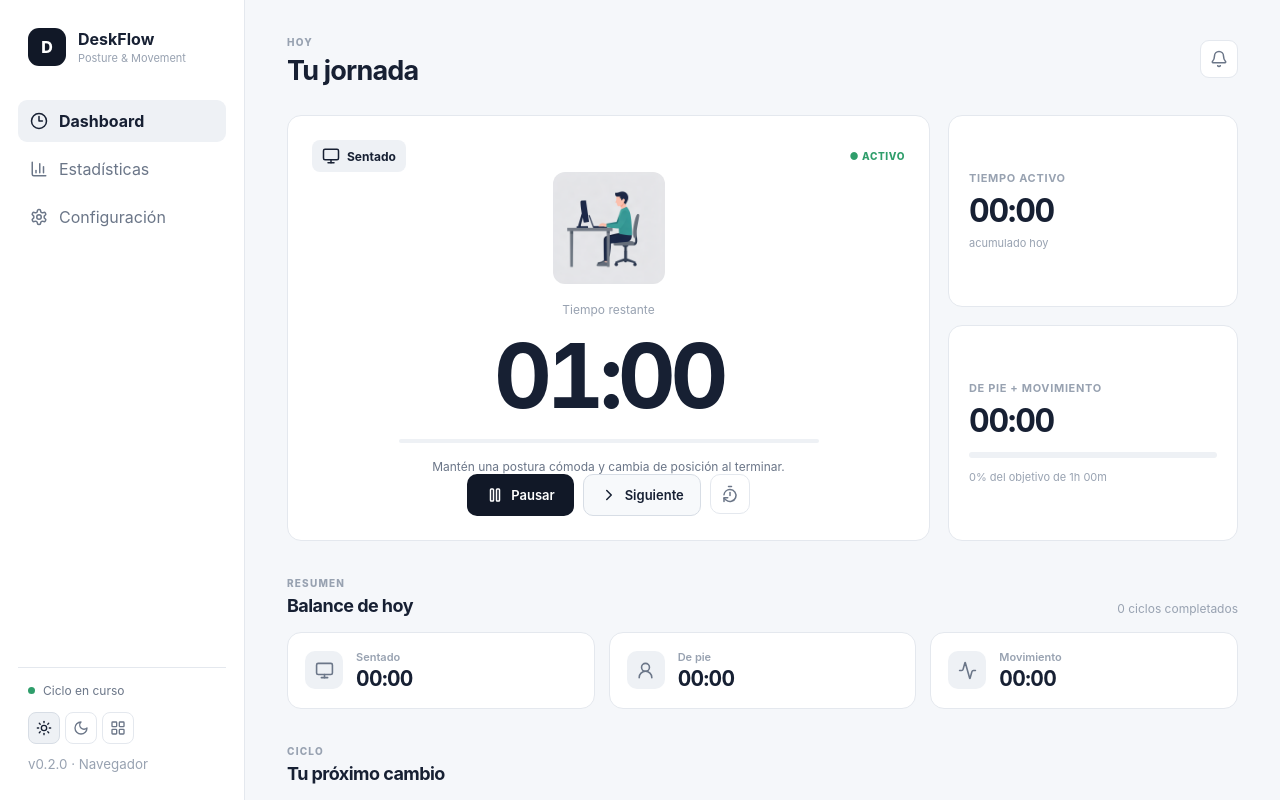
Test case: data reset › clears history and settings and stays usable
Press 3
(page scrolled)
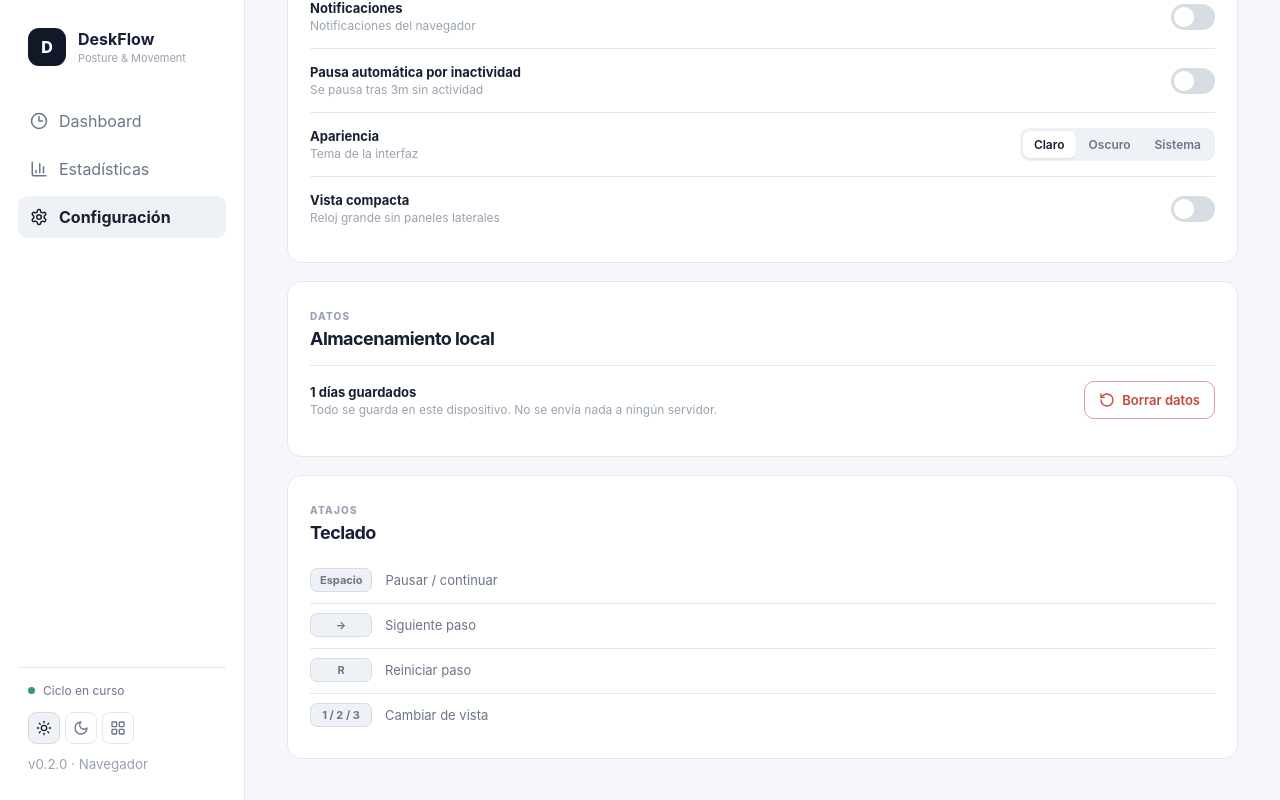
Click the button "Borrar datos" at {"x": 1150, "y": 400}, box [1084, 381, 1215, 419]
(page scrolled)
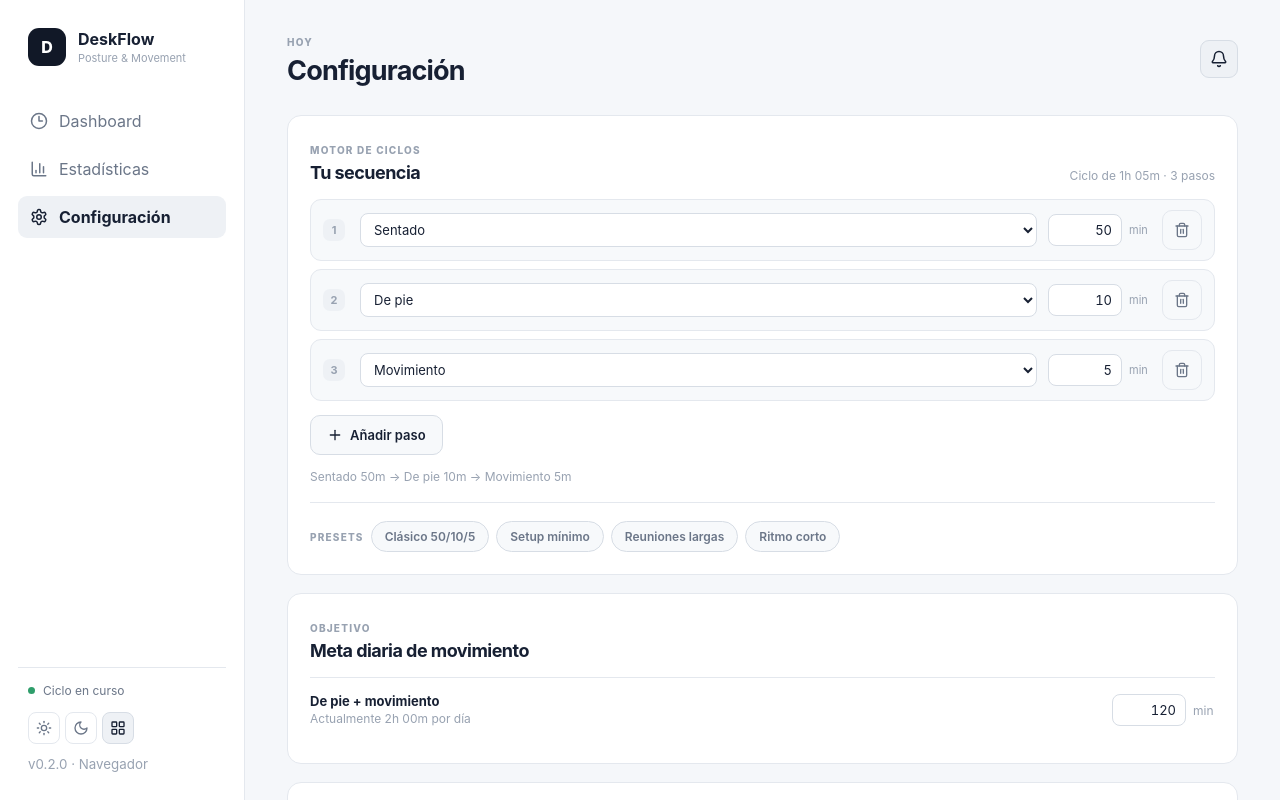
Result: the heading "Configuración" is shown at [287, 54, 465, 87]
Press 1
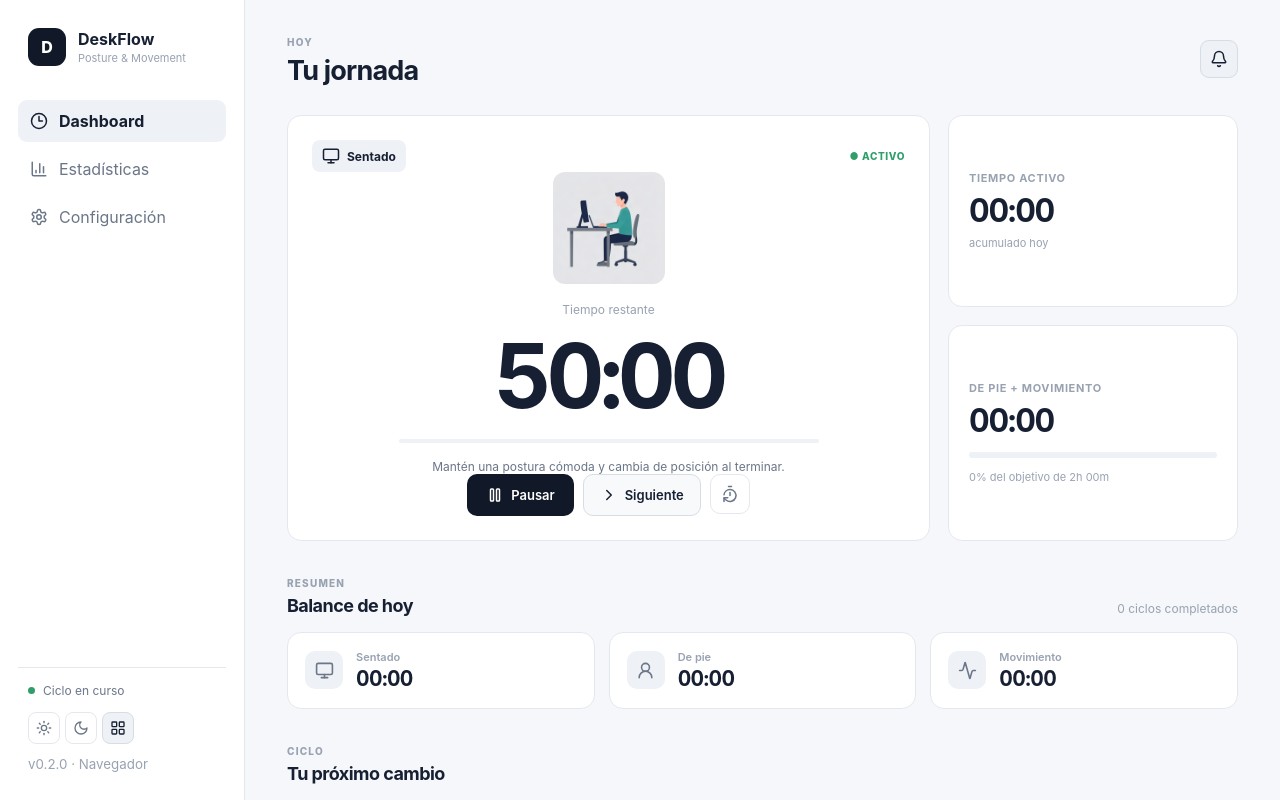
Result: the heading "Tu jornada" is shown at [287, 54, 418, 87]
